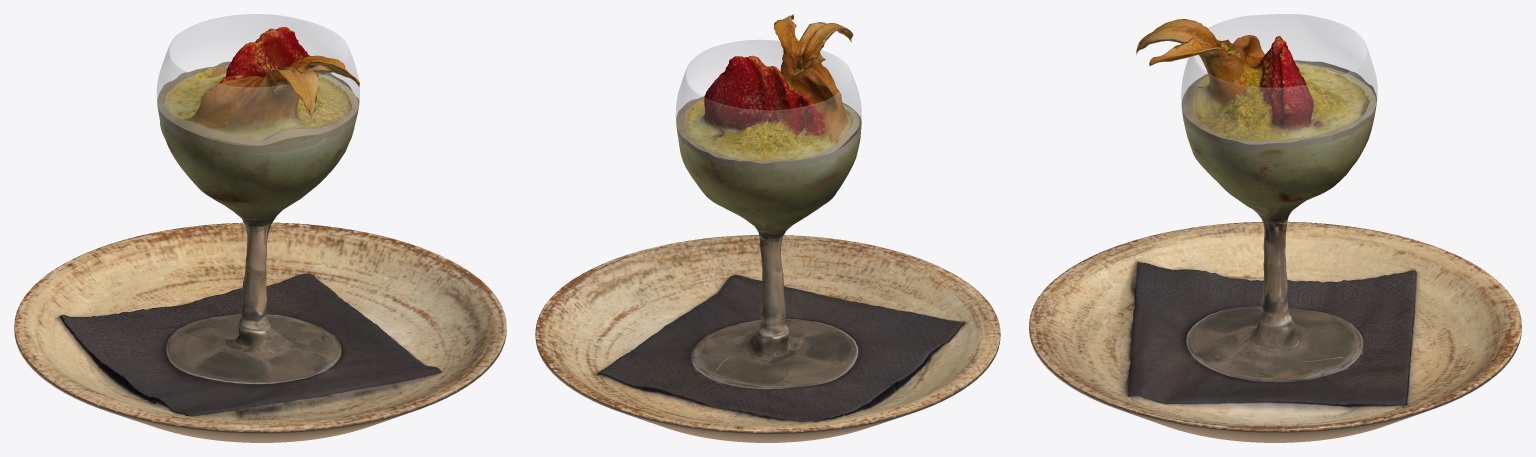
File: plato.glb
3 views of the same model, side by side, from view 1: azimuth 30°, elevation 25°; view 2: azimuth 150°, elevation 25°; view 3: azimuth 270°, elevation 25° (orthographic). The views are drawn at different scales.
Visible parts, largest first — view 1: Mesh_008; view 2: Mesh_008; view 3: Mesh_008.
Boxes of the visible parts, left/top/right/bottom form: Mesh_008: left=14, top=14, right=506, bottom=442; Mesh_008: left=535, top=14, right=1000, bottom=442; Mesh_008: left=1029, top=14, right=1521, bottom=442.
Size of the model in its own units: 0.2177 by 0.1649 by 0.2177.
Materials: 3 (2 with a texture image).
